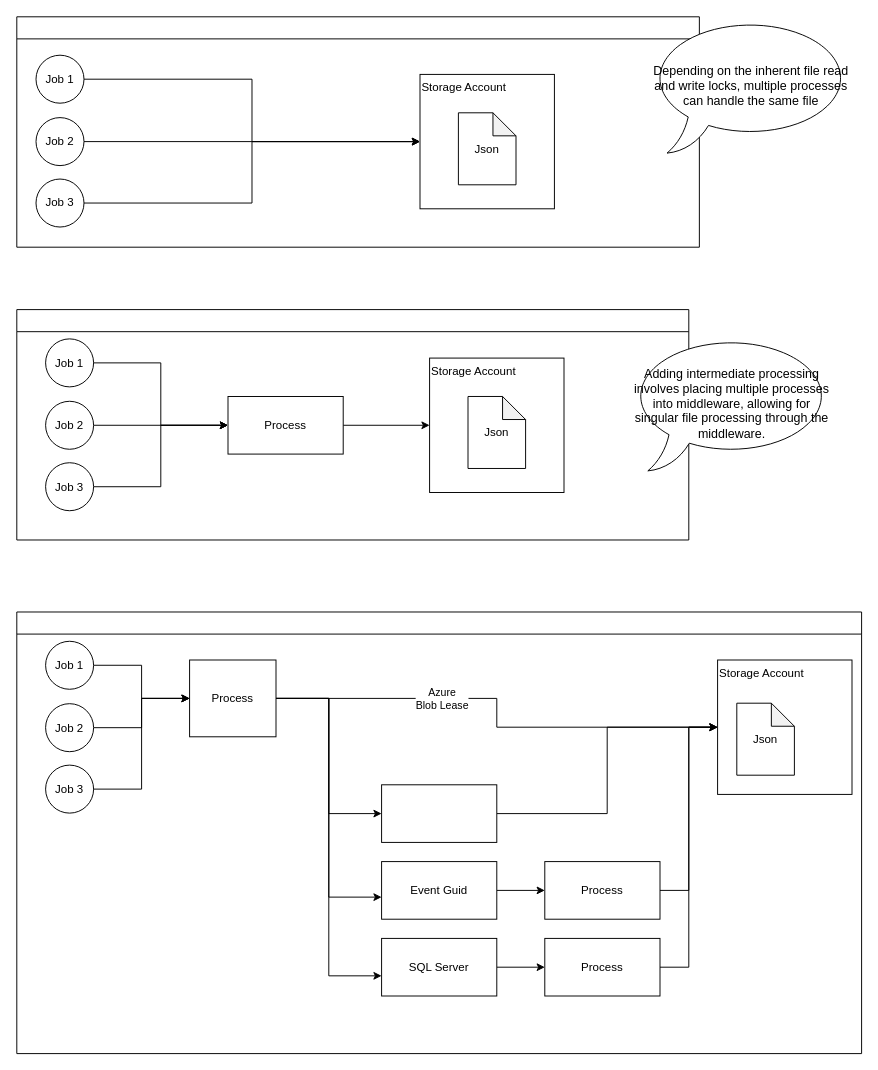
Some shapes in this 878 by 1070 pixel diagram are drawn without their labels. Each missing label, with the box of its shape:
Function: (381, 784, 497, 842)
Technical model: (16, 611, 862, 1054)
Theoretical model 1: (16, 16, 699, 247)
Theoretical model 2: (16, 309, 689, 540)
